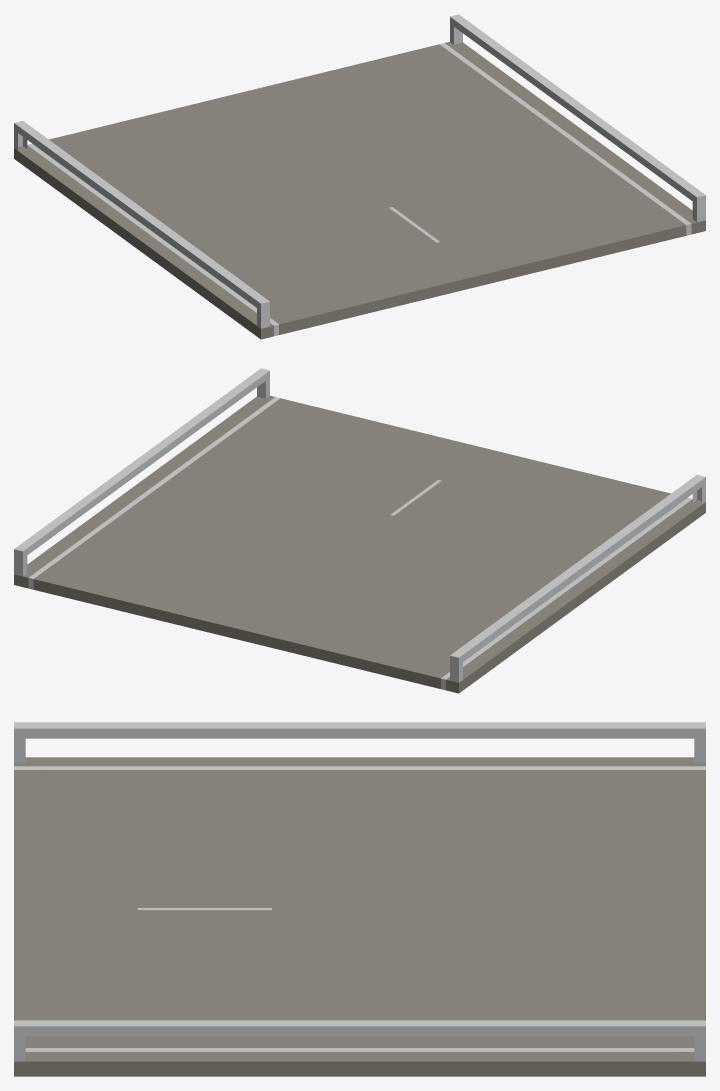
The model's file is Road_05.fbx.
3 renders of one model, top to bottom at view 1: azimuth 30°, elevation 25°; view 2: azimuth 150°, elevation 25°; view 3: azimuth 270°, elevation 25°, orthographic. The views are drawn at different scales.
Parts seen in each view (by area): view 1: Road_05; view 2: Road_05; view 3: Road_05.
Boxes of the visible parts, x1,y1,x2,y2 form: Road_05: (14, 14, 705, 339); Road_05: (14, 368, 705, 693); Road_05: (14, 722, 705, 1076).
Size of the model in its own units: 2600 by 200 by 2500.
